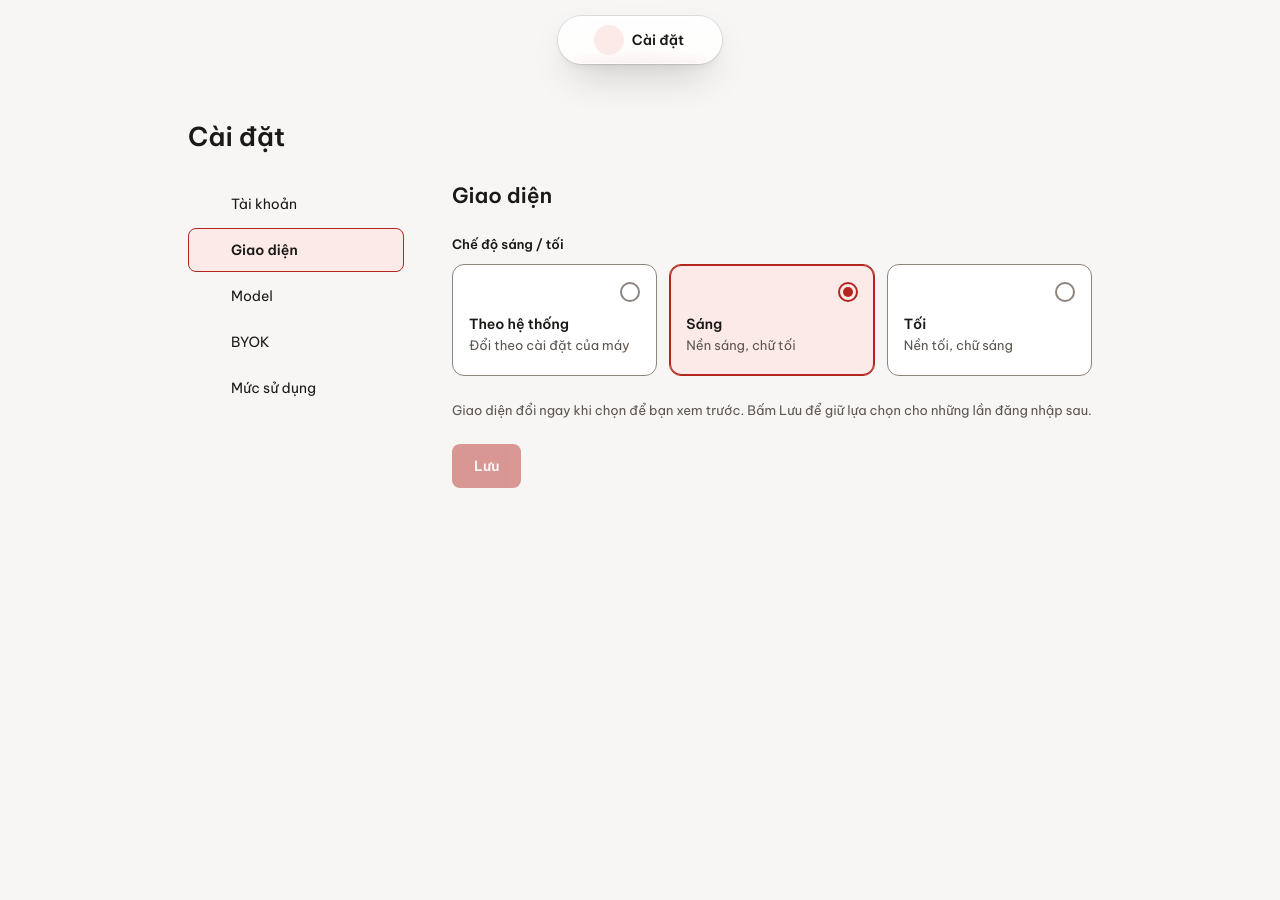
Test: giao dien › 24. xem truoc roi ROI tab chua luu ⇒ trang ve theme da luu
The width and height of the screenshot is (1280, 900).
Click the radio button labelled "Tối Nền tối, chữ sáng": (989, 320) 887,264 -> 1092,376
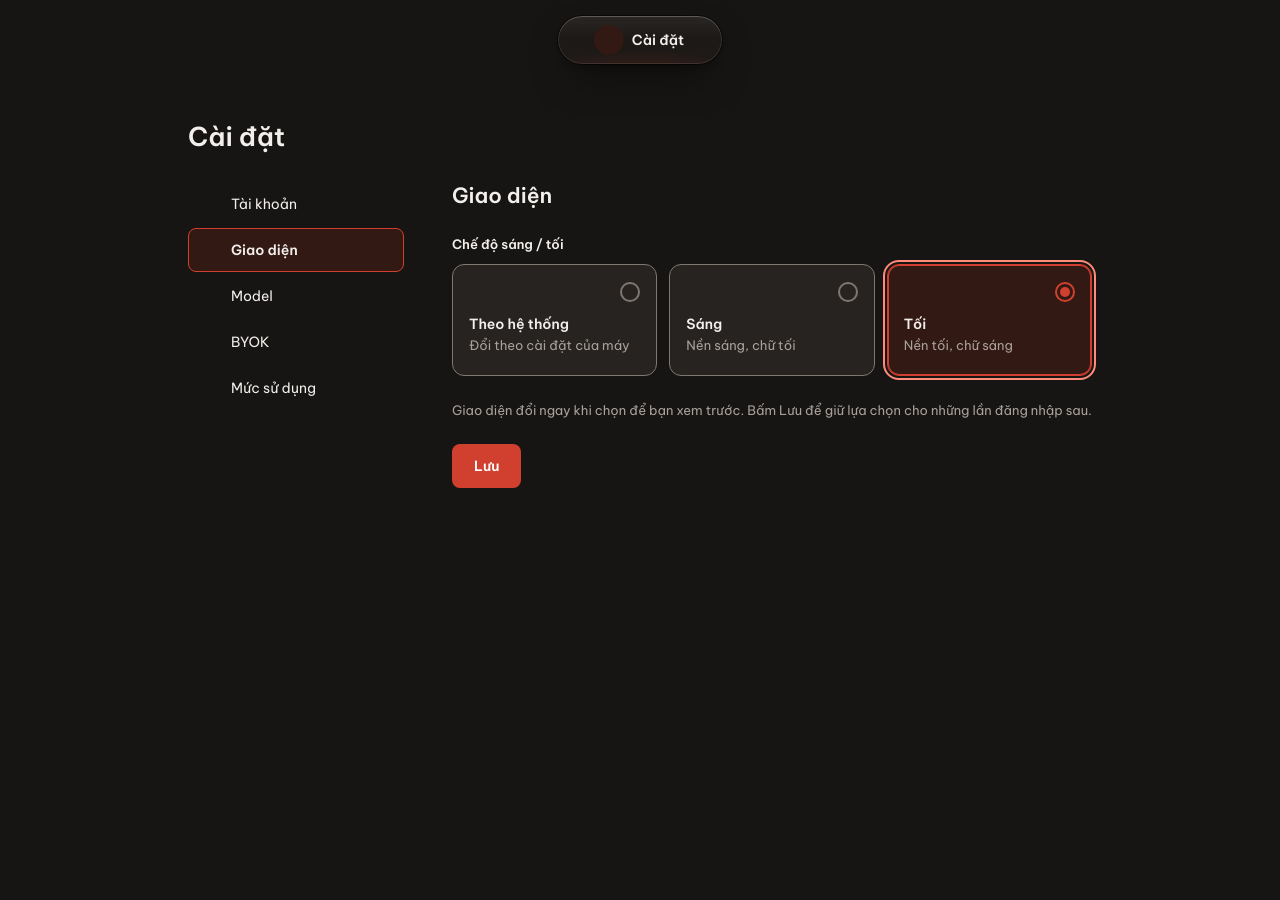
Click the link "Mức sử dụng": (274, 388) 231,379 -> 316,397
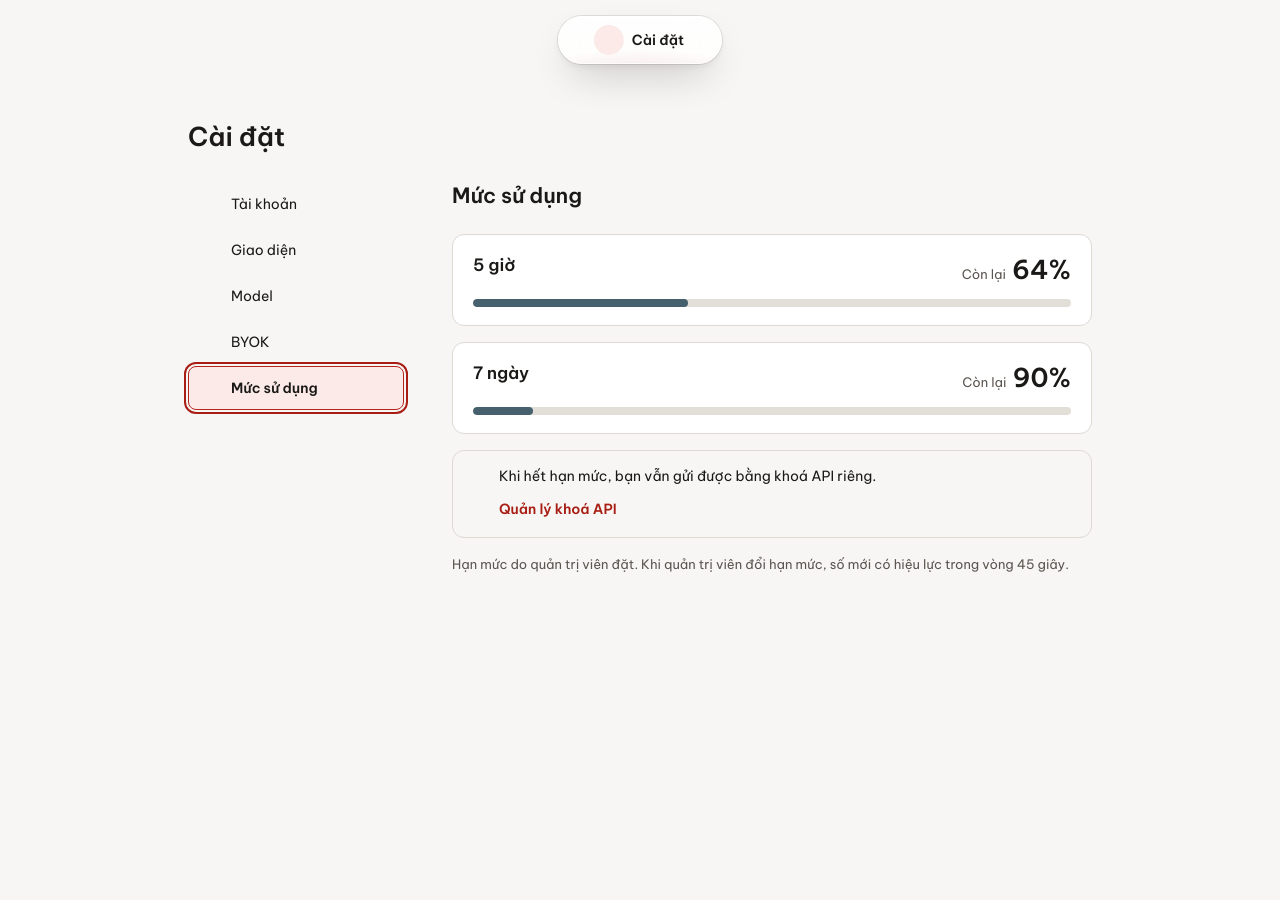
Expected: the heading "5 giờ" is shown, 473,253 -> 516,277
